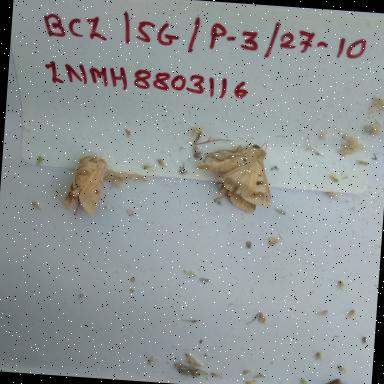abw: (184, 132, 282, 218), (53, 148, 116, 222)
